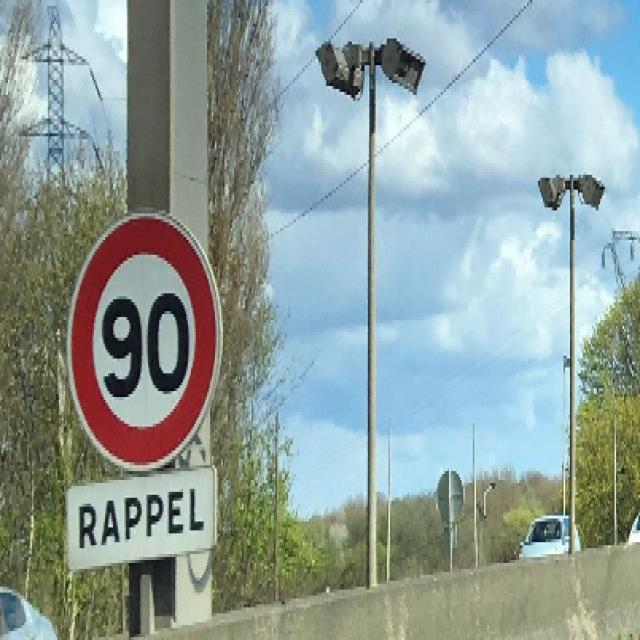speed_90: (66, 212, 225, 473)
